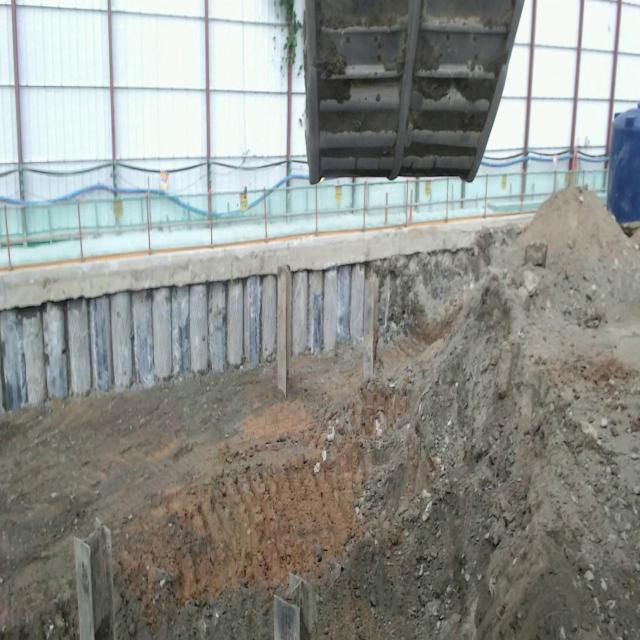cement: (0, 214, 532, 309)
red-sand: (0, 188, 640, 640)
